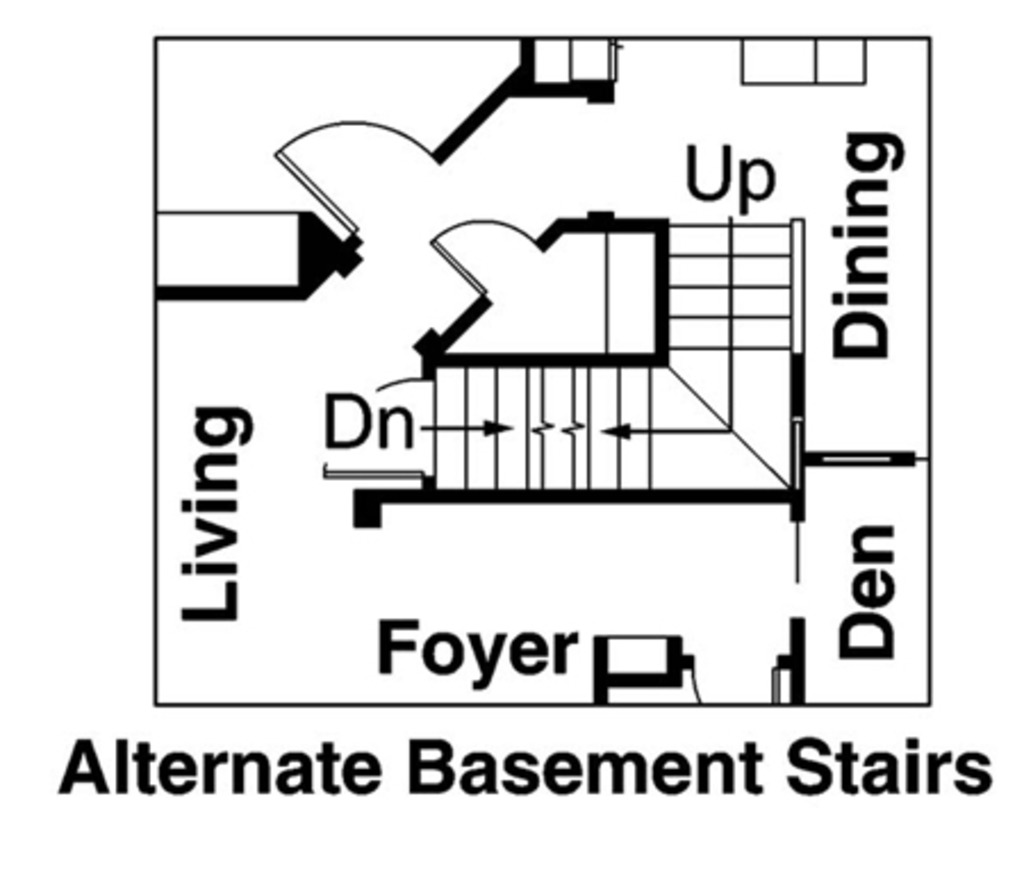door: (268, 87, 442, 248), (427, 219, 564, 307)
stairs: (378, 209, 809, 529)
